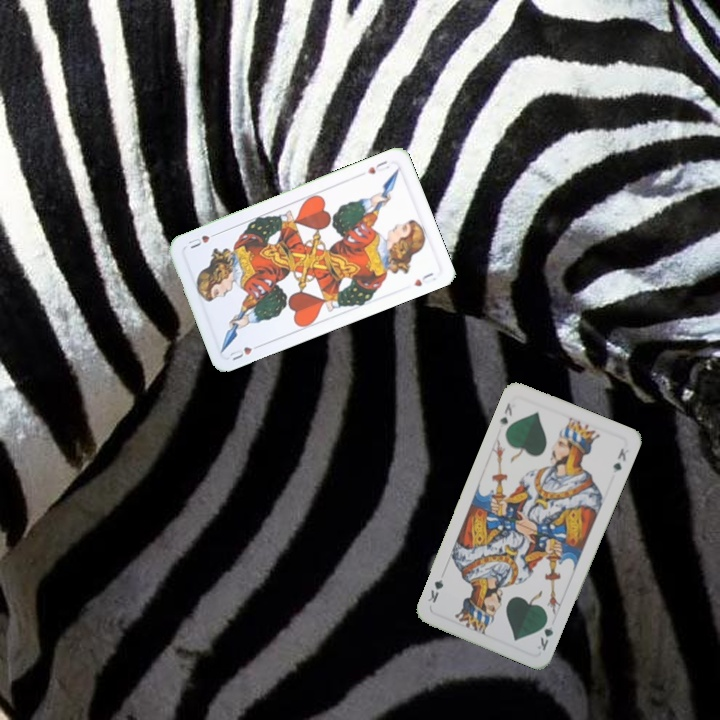GK: (533, 614, 556, 653), (495, 399, 515, 427)
HU: (226, 340, 264, 363), (363, 156, 392, 177)
